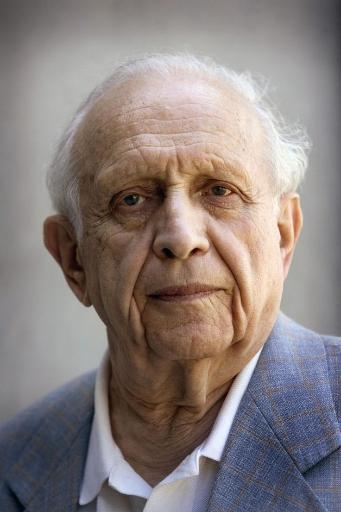left_eye: (200, 182, 244, 203)
left_lip_corner: (214, 283, 232, 302)
right_eye: (114, 189, 152, 214)
right_lip_corner: (144, 290, 157, 308)
